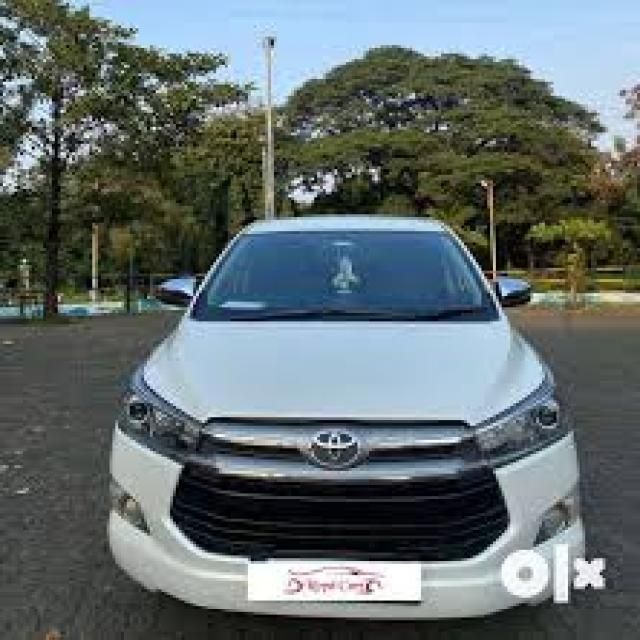light_vehicle: (106, 214, 588, 620)
